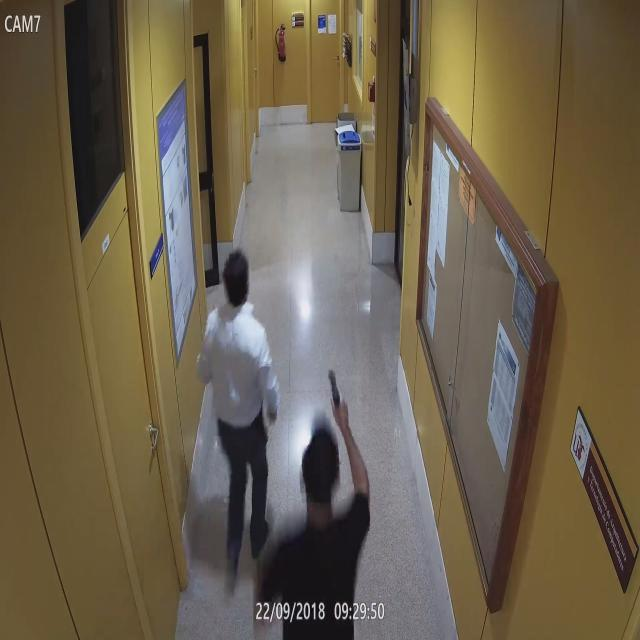weapon: (321, 366, 352, 415)
